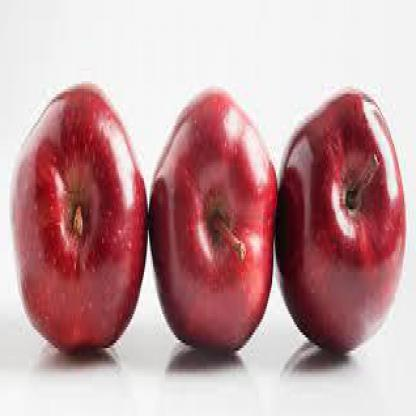apple: (9, 83, 147, 357), (279, 85, 407, 355), (151, 85, 277, 355)
